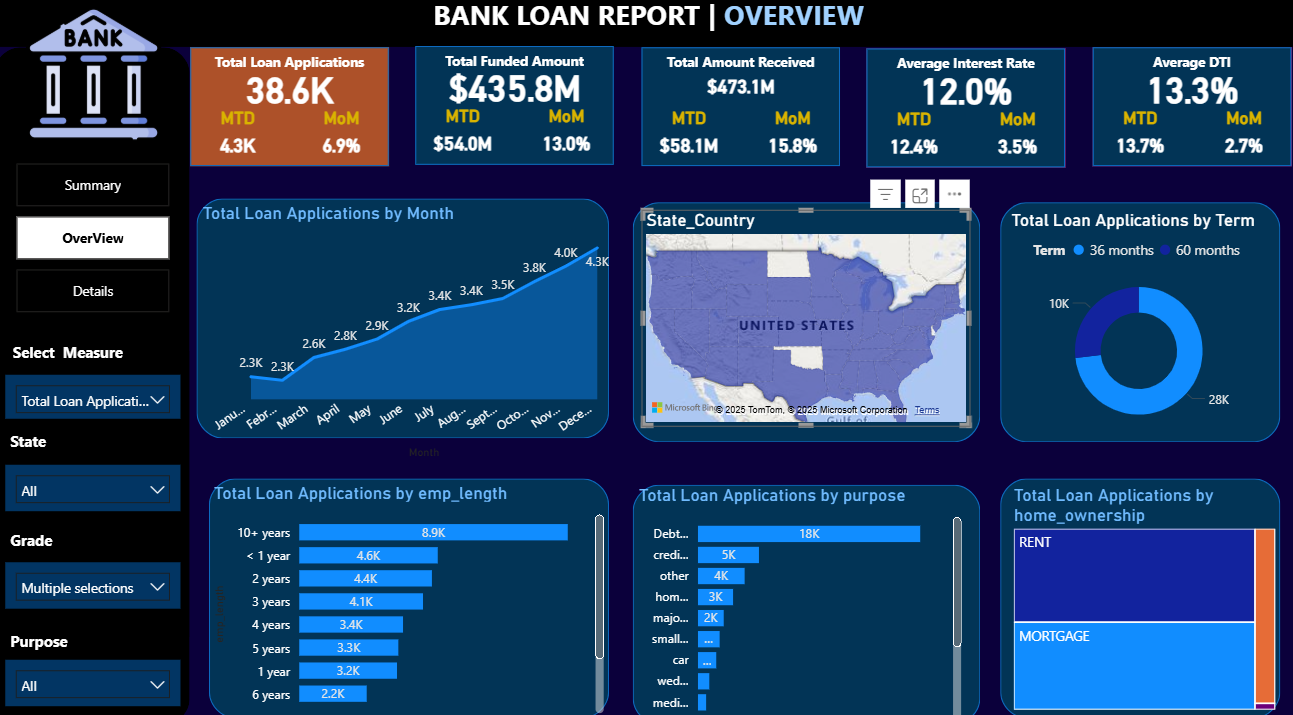

Layout of this report page (visuals, bound fields, positions):
{"tool":"powerbi","page":{"name":"OverView","canvas":[1280,720],"ordinal":1},"visuals":[{"type":"shape","box":[0,54.9,192.1,665.5],"z":0},{"type":"shape","box":[0,0,1280.3,54.9],"z":1000},{"type":"textbox","box":[404.8,0,467.9,54.9],"z":2000},{"type":"shape","box":[413.5,54,194.9,116.6],"z":3000,"group":"g2"},{"type":"group","id":"g1","title":"Group 1","box":[192.1,54.9,194.9,116.6],"z":3000},{"type":"shape","box":[192.1,54.9,194.9,116.6],"z":3000,"group":"g1"},{"type":"shape","box":[635.2,55.2,194.9,116.6],"z":3000,"group":"g3"},{"type":"shape","box":[1078.5,55.2,194.9,116.6],"z":3000,"group":"g5"},{"type":"shape","box":[856.9,56.4,194.9,116.6],"z":3000,"group":"g4"},{"type":"group","id":"g2","title":"Group 1","box":[413.5,54,195.1,116.6],"z":4000},{"type":"card","fields":{"Values":["financial_loan.Total Funded Amount"]},"box":[432.7,54,156.4,78.2],"z":4000,"group":"g2"},{"type":"card","fields":{"Values":["financial_loan.Total Loan Applications"]},"box":[211.3,54.9,156.4,78.2],"z":4000,"group":"g1"},{"type":"card","fields":{"Values":["financial_loan.Total Amount Received"]},"box":[654.4,55.2,156.4,78.2],"z":4000,"group":"g3"},{"type":"card","fields":{"Values":["financial_loan.Avg DTI"]},"box":[1097.7,55.2,156.4,78.2],"z":4000,"group":"g5"},{"type":"card","fields":{"Values":["financial_loan.Avg Interest Rate"]},"box":[876.1,56.4,156.4,78.2],"z":4000,"group":"g4"},{"type":"textbox","box":[413.5,54,194.9,27.4],"z":5000,"group":"g2"},{"type":"textbox","box":[192.1,54.9,194.9,27.4],"z":5000,"group":"g1"},{"type":"textbox","box":[635.2,55.2,194.9,27.4],"z":5000,"group":"g3"},{"type":"textbox","box":[1078.5,55.2,194.9,27.4],"z":5000,"group":"g5"},{"type":"textbox","box":[856.9,56.4,194.9,27.4],"z":5000,"group":"g4"},{"type":"shape","box":[198.8,203.7,404.9,235.6],"z":5000},{"type":"group","id":"g3","title":"Group 1","box":[635.2,55.2,195.1,116.6],"z":6000},{"type":"card","title":"MTD","fields":{"Values":["financial_loan.MTD  Funded Amount"]},"box":[413.5,113,93.3,56.3],"z":6000,"group":"g2"},{"type":"card","title":"MTD","fields":{"Values":["financial_loan.MTD Loan Applications"]},"box":[192.1,113.9,93.3,56.3],"z":6000,"group":"g1"},{"type":"card","title":"MTD","fields":{"Values":["financial_loan.MTD Amount Received"]},"box":[635.2,114.2,93.3,56.3],"z":6000,"group":"g3"},{"type":"card","title":"MTD","fields":{"Values":["financial_loan.MTD Avg DTI"]},"box":[1078.5,114.2,93.3,56.3],"z":6000,"group":"g5"},{"type":"card","title":"MTD","fields":{"Values":["financial_loan.MTD Avg Int Rate"]},"box":[856.9,115.4,93.3,56.3],"z":6000,"group":"g4"},{"type":"group","id":"g4","title":"Group 1","box":[856.9,56.4,195.1,116.6],"z":7000},{"type":"card","title":"MoM","fields":{"Values":["financial_loan.MoM Funded Amount"]},"box":[515,113,93.3,56.3],"z":7000,"group":"g2"},{"type":"card","title":"MoM","fields":{"Values":["financial_loan.MOM Loan Applications"]},"box":[293.6,113.9,93.3,56.3],"z":7000,"group":"g1"},{"type":"card","title":"MoM","fields":{"Values":["financial_loan.MoM Amount Received"]},"box":[736.7,114.2,93.3,56.3],"z":7000,"group":"g3"},{"type":"card","title":"MoM","fields":{"Values":["financial_loan.MoM Avg DTI"]},"box":[1180,114.2,93.3,56.3],"z":7000,"group":"g5"},{"type":"card","title":"MoM","fields":{"Values":["financial_loan.MoM Avg Int Rate"]},"box":[958.4,115.4,93.3,56.3],"z":7000,"group":"g4"},{"type":"group","id":"g5","title":"Group 1","box":[1078.5,55.2,195.1,116.6],"z":8000},{"type":"slicer","fields":{"Values":["financial_loan.address_state"]},"box":[10.8,464.8,171.8,45.4],"z":9000},{"type":"textbox","box":[10.8,426.8,67.5,41.7],"z":10000},{"type":"slicer","fields":{"Values":["financial_loan.grade"]},"box":[10.8,560.5,171.8,45.4],"z":11000},{"type":"textbox","box":[10.8,523.7,67.5,36.8],"z":12000},{"type":"slicer","fields":{"Values":["financial_loan.purpose"]},"box":[10.8,656.2,171.8,45.4],"z":13000},{"type":"textbox","box":[10.8,623.1,73.6,33.1],"z":14000},{"type":"areaChart","fields":{"Y":["financial_loan.Total Loan Applications"],"Category":["Date Table.Date.Variation.Date Hierarchy.Month"]},"box":[200,207.4,409.8,256.4],"z":15000},{"type":"slicer","fields":{"Values":["Select Measure.Select Measure"]},"box":[10.8,376.4,171.8,42.9],"z":16000},{"type":"textbox","box":[13.3,339.6,133.7,41.7],"z":17000},{"type":"shape","box":[627,207.4,341.1,235.6],"z":18000},{"type":"filledMap","fields":{"Category":["financial_loan.State_Country"]},"box":[635.6,214.7,322.7,213.5],"z":19000},{"type":"shape","box":[987.7,207.4,274.8,235.6],"z":20000},{"type":"donutChart","fields":{"Y":["financial_loan.Total Loan Applications"],"Category":["financial_loan.term"]},"box":[993.9,214.7,260.1,228.2],"z":21000},{"type":"shape","box":[211,478.5,392.6,235.6],"z":22000},{"type":"barChart","fields":{"Y":["financial_loan.Total Loan Applications"],"Category":["financial_loan.emp_length"]},"box":[211,482.2,392.6,231.9],"z":23000},{"type":"shape","box":[627,484.7,341.1,235.6],"z":24000},{"type":"barChart","fields":{"Y":["financial_loan.Total Loan Applications"],"Category":["financial_loan.purpose"]},"box":[628.2,484.7,326.4,235.6],"z":25000},{"type":"shape","box":[987.7,478.5,274.8,235.6],"z":25001},{"type":"treemap","fields":{"Group":["financial_loan.home_ownership"],"Values":["financial_loan.Total Loan Applications"]},"box":[996.3,484.7,266.3,225.8],"z":25002},{"type":"pageNavigator","box":[22.1,169.3,150.9,147.2],"z":25003}]}

Visuals, with their boxes on the page's 1280x720 design canvas (x1, y1, x2, y2). These are canvas units, not pixel positions in the 1293x715 screenshot, which may show the page scaled, cropped or inside an application window:
shape: BBox(0, 55, 192, 720)
shape: BBox(0, 0, 1280, 55)
textbox: BBox(405, 0, 873, 55)
shape: BBox(414, 54, 608, 171)
"Group 1" group: BBox(192, 55, 387, 172)
shape: BBox(192, 55, 387, 172)
shape: BBox(635, 55, 830, 172)
shape: BBox(1078, 55, 1273, 172)
shape: BBox(857, 56, 1052, 173)
"Group 1" group: BBox(414, 54, 609, 171)
card - financial_loan.Total Funded Amount: BBox(433, 54, 589, 132)
card - financial_loan.Total Loan Applications: BBox(211, 55, 368, 133)
card - financial_loan.Total Amount Received: BBox(654, 55, 811, 133)
card - financial_loan.Avg DTI: BBox(1098, 55, 1254, 133)
card - financial_loan.Avg Interest Rate: BBox(876, 56, 1032, 135)
textbox: BBox(414, 54, 608, 81)
textbox: BBox(192, 55, 387, 82)
textbox: BBox(635, 55, 830, 83)
textbox: BBox(1078, 55, 1273, 83)
textbox: BBox(857, 56, 1052, 84)
shape: BBox(199, 204, 604, 439)
"Group 1" group: BBox(635, 55, 830, 172)
"MTD" card: BBox(414, 113, 507, 169)
"MTD" card: BBox(192, 114, 285, 170)
"MTD" card: BBox(635, 114, 728, 170)
"MTD" card: BBox(1078, 114, 1172, 170)
"MTD" card: BBox(857, 115, 950, 172)
"Group 1" group: BBox(857, 56, 1052, 173)
"MoM" card: BBox(515, 113, 608, 169)
"MoM" card: BBox(294, 114, 387, 170)
"MoM" card: BBox(737, 114, 830, 170)
"MoM" card: BBox(1180, 114, 1273, 170)
"MoM" card: BBox(958, 115, 1052, 172)
"Group 1" group: BBox(1078, 55, 1274, 172)
slicer - financial_loan.address_state: BBox(11, 465, 183, 510)
textbox: BBox(11, 427, 78, 468)
slicer - financial_loan.grade: BBox(11, 560, 183, 606)
textbox: BBox(11, 524, 78, 560)
slicer - financial_loan.purpose: BBox(11, 656, 183, 702)
textbox: BBox(11, 623, 84, 656)
areaChart - financial_loan.Total Loan Applications x Date Table.Date.Variation.Date Hierarchy.Month: BBox(200, 207, 610, 464)
slicer - Select Measure.Select Measure: BBox(11, 376, 183, 419)
textbox: BBox(13, 340, 147, 381)
shape: BBox(627, 207, 968, 443)
filledMap - financial_loan.State_Country: BBox(636, 215, 958, 428)
shape: BBox(988, 207, 1262, 443)
donutChart - financial_loan.Total Loan Applications x financial_loan.term: BBox(994, 215, 1254, 443)
shape: BBox(211, 478, 604, 714)
barChart - financial_loan.Total Loan Applications x financial_loan.emp_length: BBox(211, 482, 604, 714)
shape: BBox(627, 485, 968, 720)
barChart - financial_loan.Total Loan Applications x financial_loan.purpose: BBox(628, 485, 955, 720)
shape: BBox(988, 478, 1262, 714)
treemap - financial_loan.home_ownership x financial_loan.Total Loan Applications: BBox(996, 485, 1263, 710)
pageNavigator: BBox(22, 169, 173, 316)
